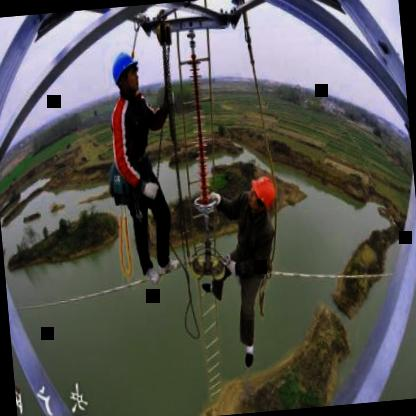helmet: (107, 46, 144, 102), (246, 174, 280, 218)
